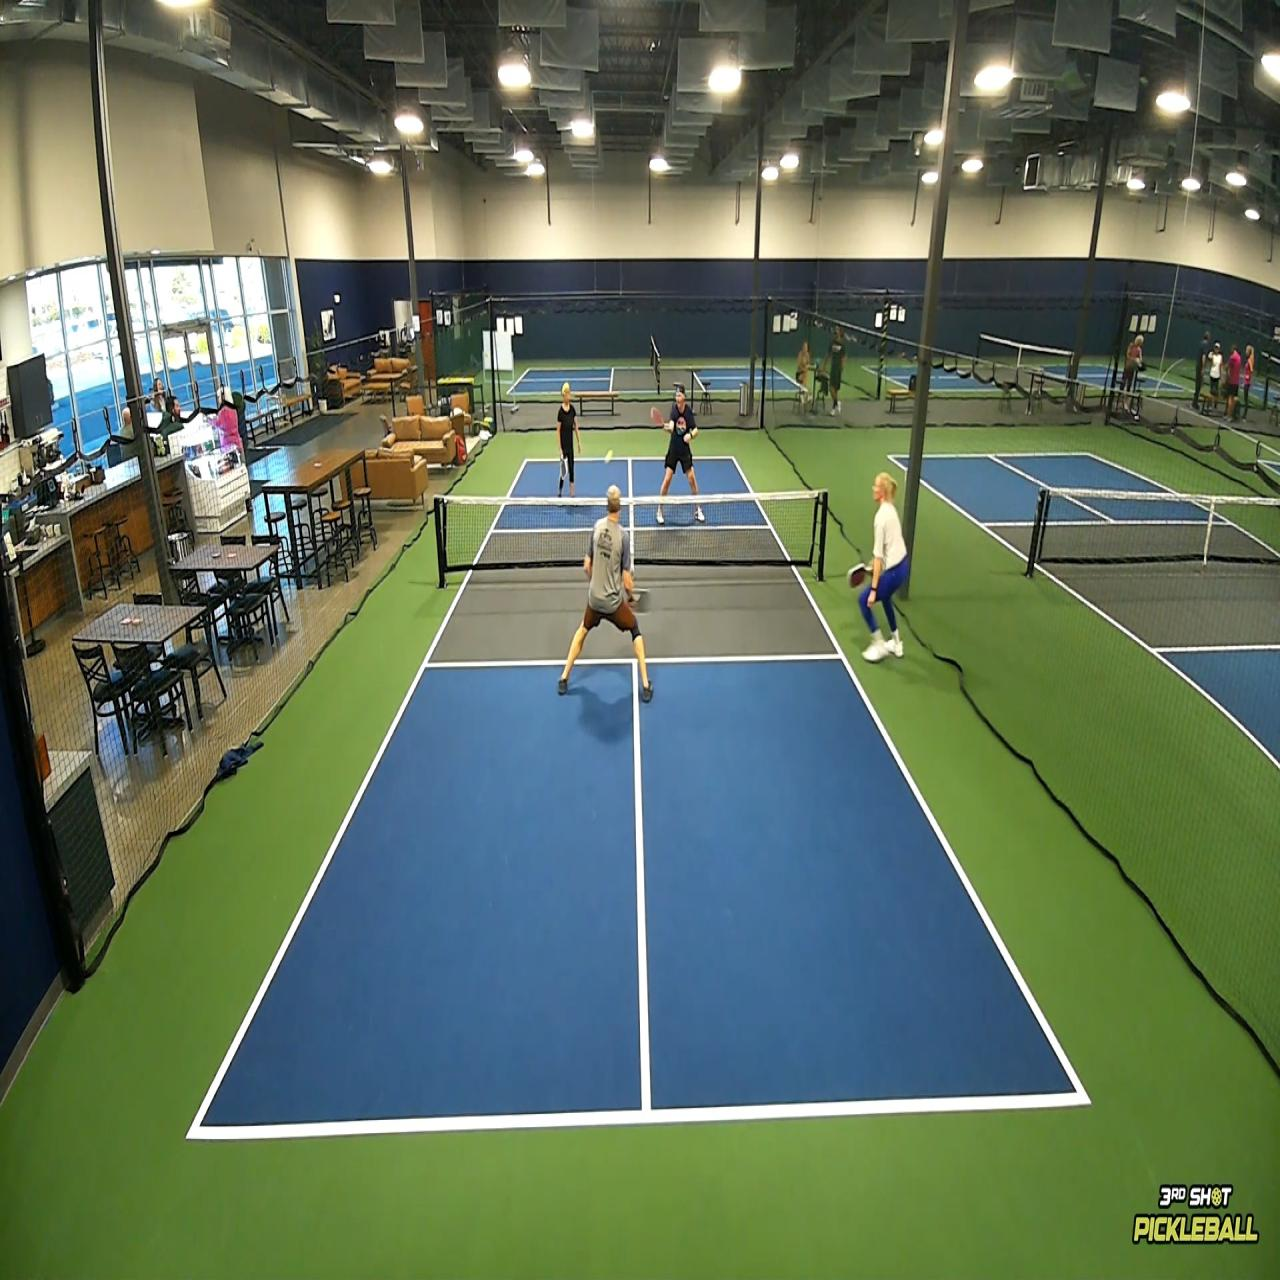Pickleball: (604, 449, 614, 465)
